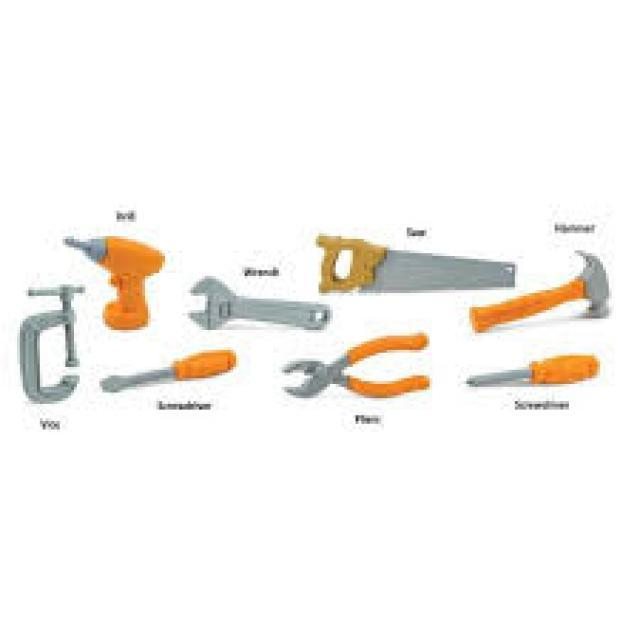drill: (58, 218, 164, 330)
pliers: (264, 330, 440, 402)
wrench: (176, 278, 343, 342)
